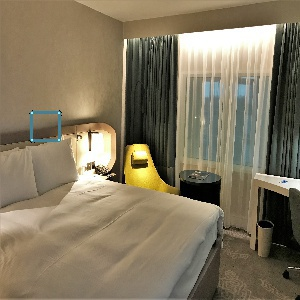square: (27, 109, 64, 144)
